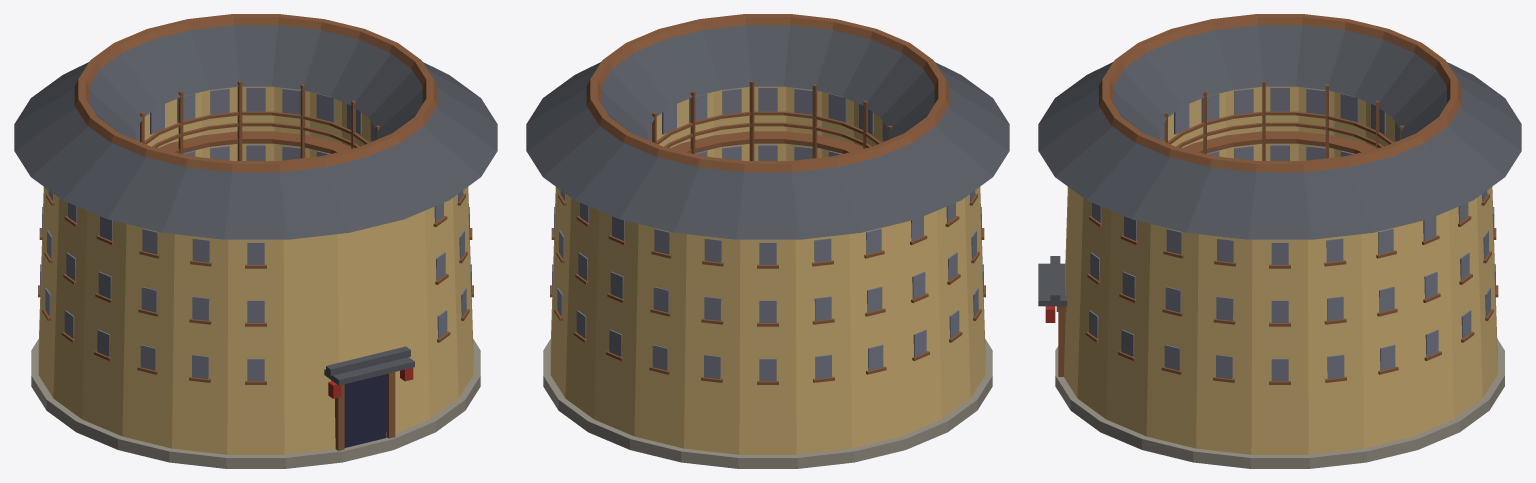
Rendered from house-2x2-4f-tulou-a.glb.
3 renders of one model, left to right at view 1: azimuth 30°, elevation 25°; view 2: azimuth 150°, elevation 25°; view 3: azimuth 270°, elevation 25°, orthographic.
Visible parts, largest first — view 1: house-2x2-4f-tulou-a; view 2: house-2x2-4f-tulou-a; view 3: house-2x2-4f-tulou-a.
Part boxes in pixels (x1=…): house-2x2-4f-tulou-a: x1=14, y1=14, x2=497, y2=468; house-2x2-4f-tulou-a: x1=526, y1=14, x2=1009, y2=468; house-2x2-4f-tulou-a: x1=1038, y1=14, x2=1521, y2=468.
Bounding box in the file's own units: 1.98 × 1.29 × 1.98.
Materials: 1 (1 with a texture image).
